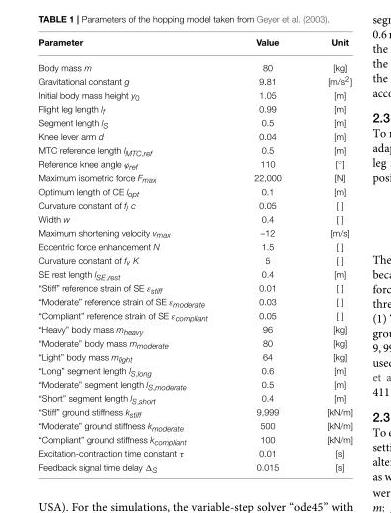table: (37, 37, 351, 473)
table column: (37, 37, 230, 473), (230, 37, 303, 473), (303, 37, 351, 473)
table column header: (37, 37, 351, 54)
table row: (37, 54, 351, 73), (37, 37, 351, 54), (37, 73, 351, 88), (37, 267, 351, 282), (37, 88, 351, 102), (37, 102, 351, 116), (37, 116, 351, 130), (37, 143, 351, 157), (37, 157, 351, 171), (37, 171, 351, 185), (37, 185, 351, 199), (37, 199, 351, 213), (37, 226, 351, 240), (37, 253, 351, 267), (37, 295, 351, 309), (37, 309, 351, 323), (37, 323, 351, 337), (37, 350, 351, 364), (37, 364, 351, 378), (37, 378, 351, 392), (37, 392, 351, 406), (37, 419, 351, 433), (37, 433, 351, 447), (37, 130, 351, 143), (37, 213, 351, 226), (37, 240, 351, 253), (37, 282, 351, 295), (37, 337, 351, 350), (37, 406, 351, 419), (37, 447, 351, 460), (37, 460, 351, 473)
